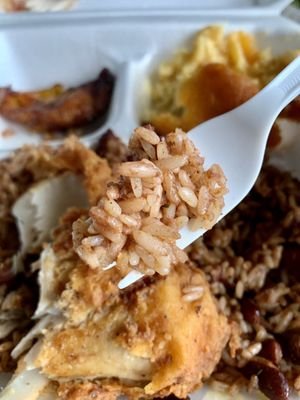sushi: (0, 6, 300, 392)
